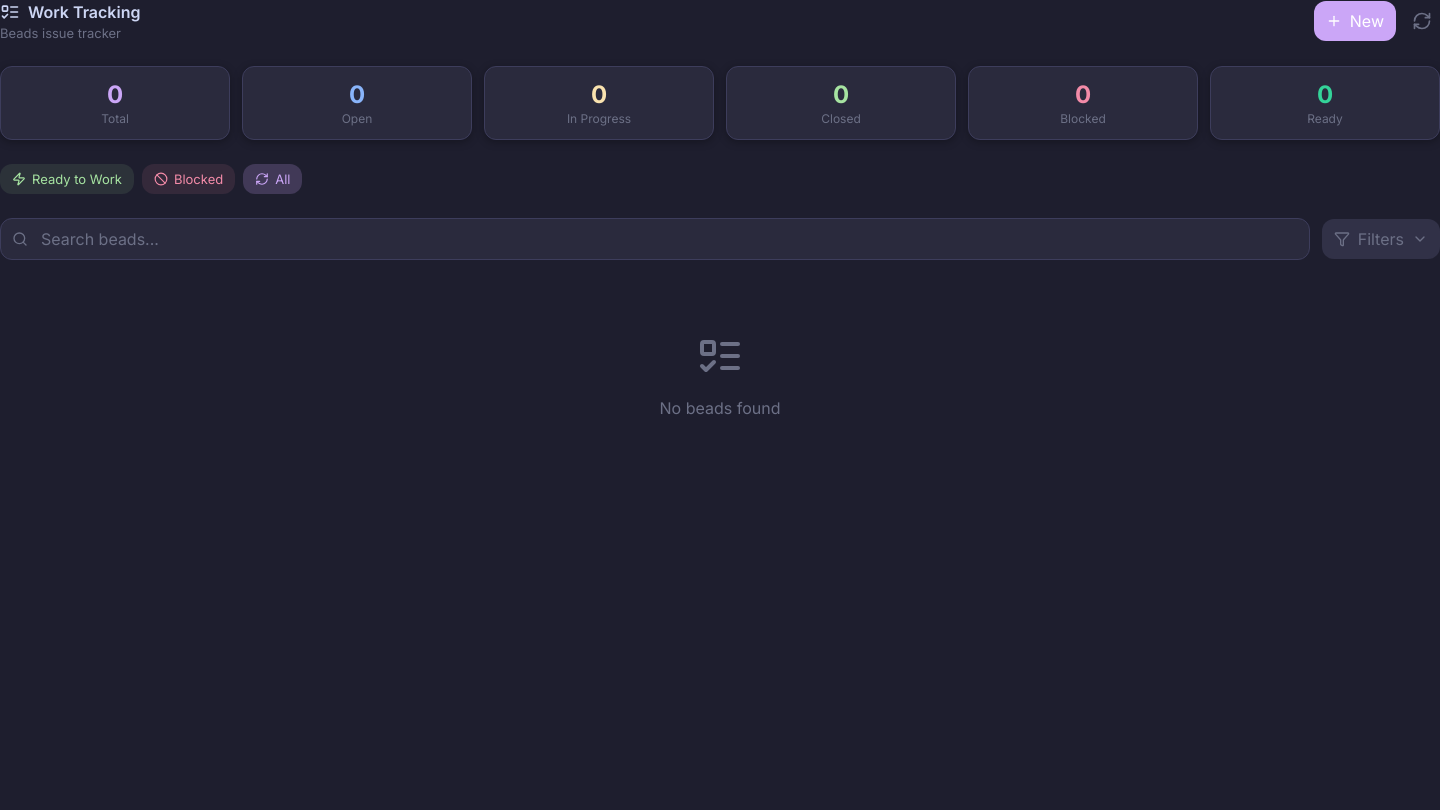
Test: BeadsPanel › opens create modal when clicking New button
Click the button "New": point(1355, 21) [1314,1,1396,41]
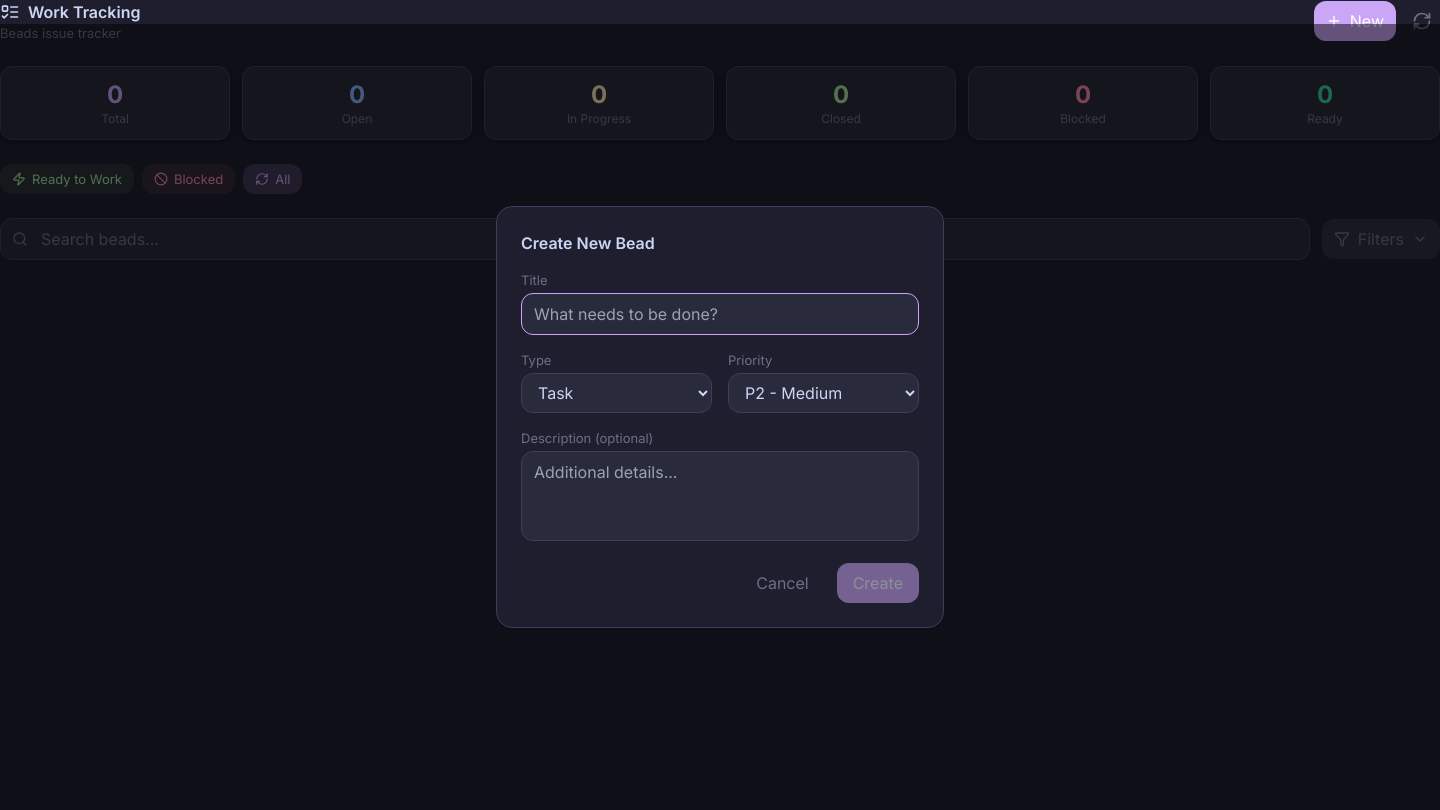
Result: the heading "Create New Bead" is shown at [521,233,655,253]
Result: the field with placeholder "What needs to be done?" is shown at [521,293,919,335]
